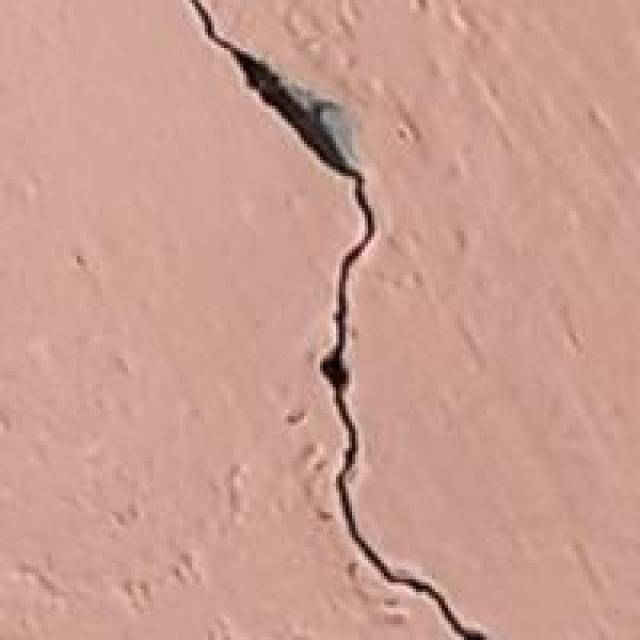Crack: (163, 0, 509, 637)
